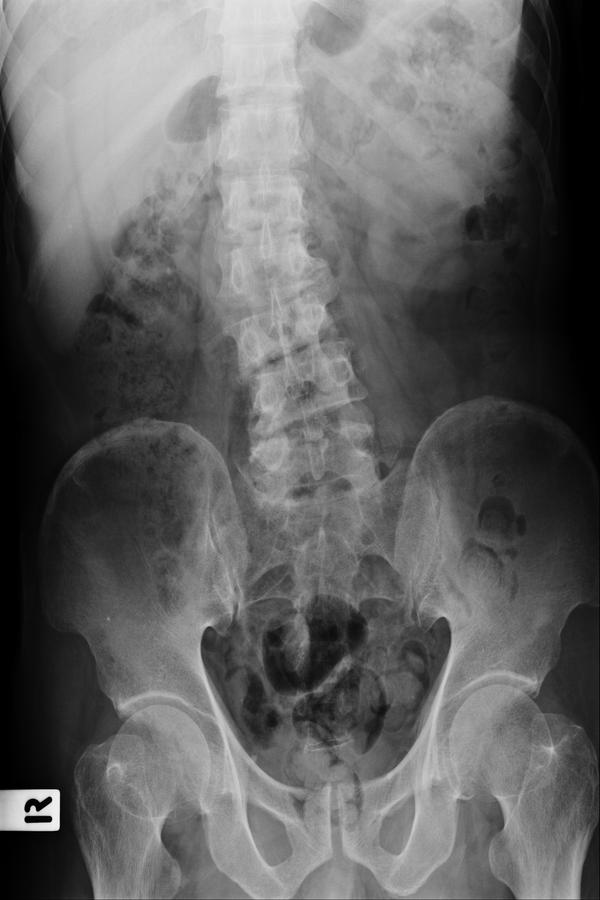lumbar scoliosis: (212, 132, 392, 544)
